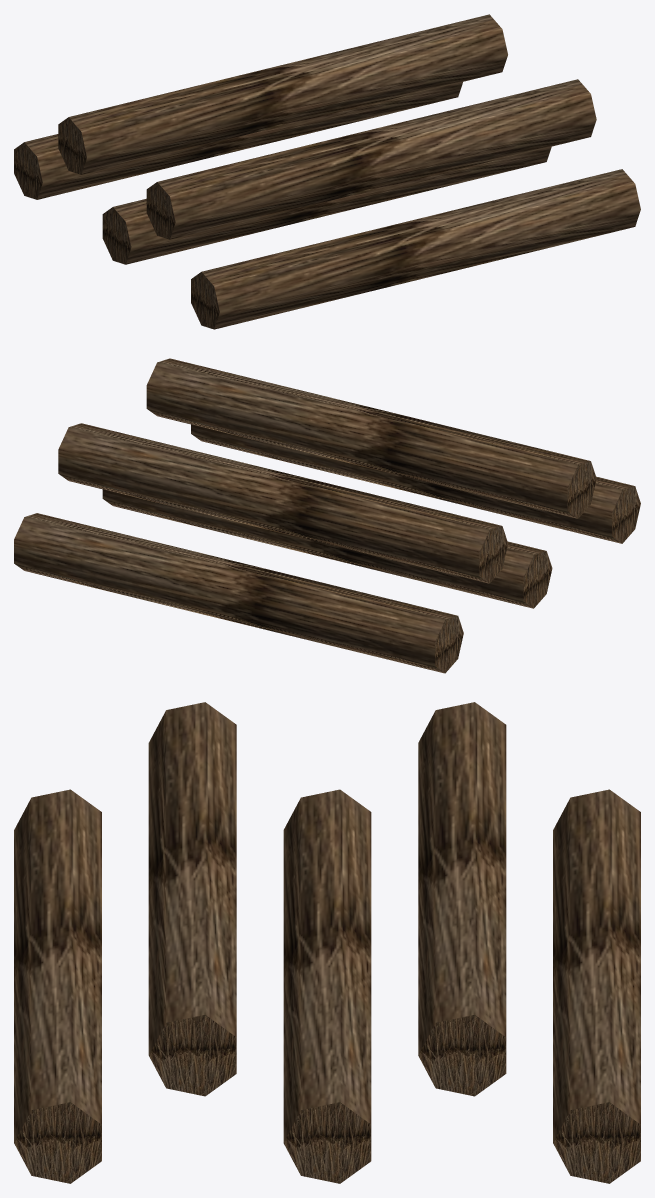
The model's file is scrolls.glb.
3 renders of one model, top to bottom at view 1: azimuth 30°, elevation 25°; view 2: azimuth 150°, elevation 25°; view 3: azimuth 270°, elevation 25°, orthographic. The views are drawn at different scales.
Parts seen in each view (by area): view 1: part_0; view 2: part_0; view 3: part_0.
Part boxes in pixels (x1=…): part_0: x1=14, y1=14, x2=640, y2=329; part_0: x1=14, y1=358, x2=640, y2=673; part_0: x1=14, y1=702, x2=640, y2=1183.
Size of the model in its own units: 0.3836 by 0.0968 by 0.3251.
1 material, 1 textured.
